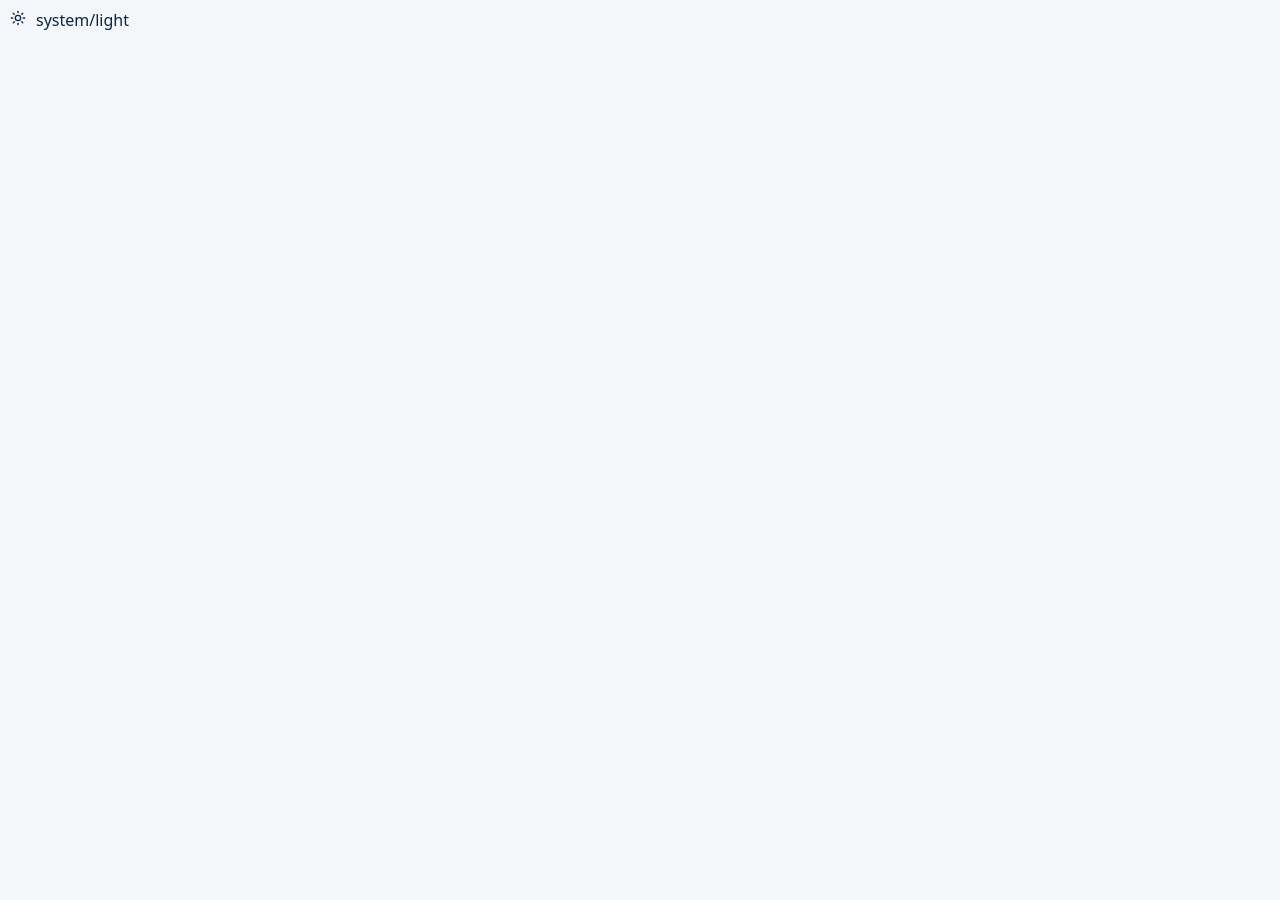
Test case: salva o tema escolhido, reaplica ao reabrir e mantém a preferência mesmo mudando o sistema
Later steps or results of the test are not shown.
Step 1. Click the button named "Aparência" → x=18, y=18, box [0,0,36,36]
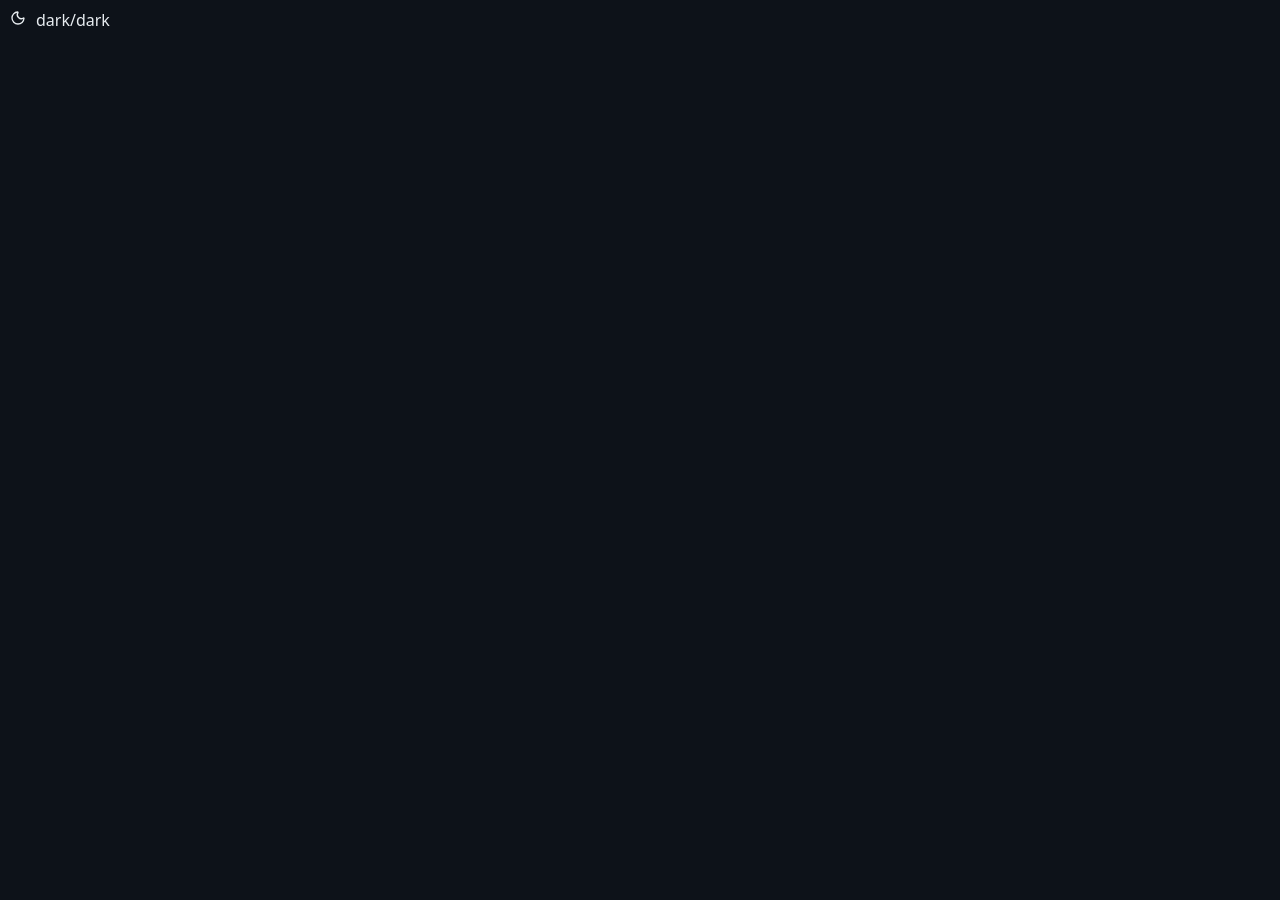
Now the text "dark/dark" is shown, box [36,9,110,31]
